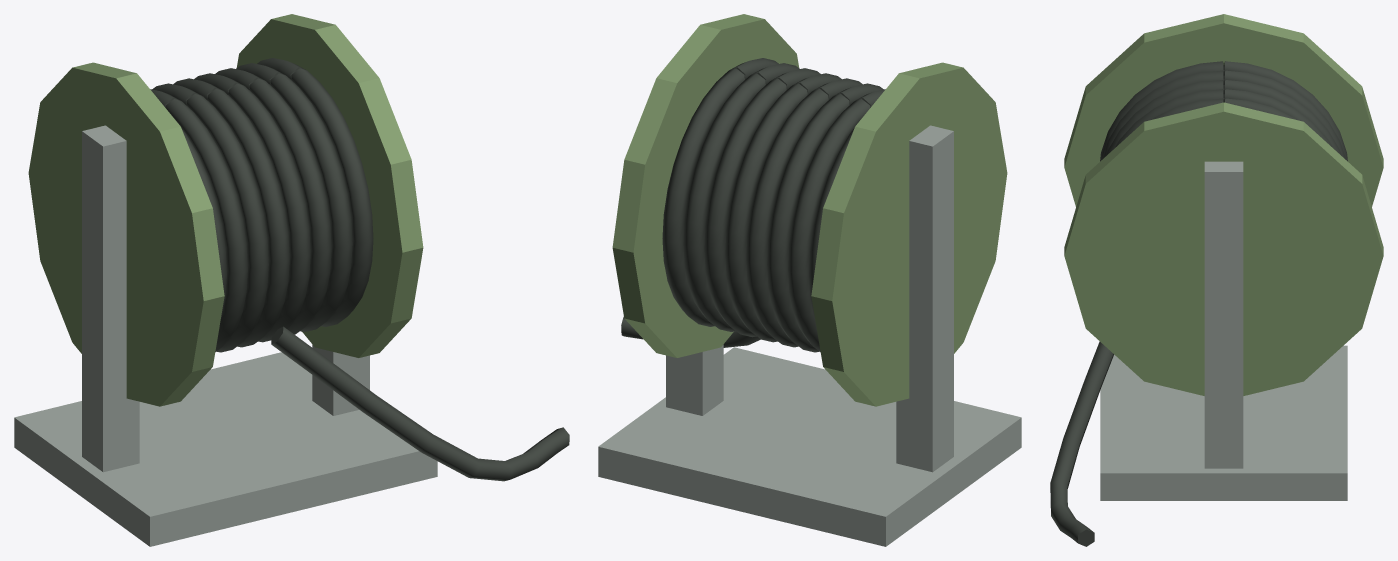
File: zoo-and-safari-park-builder-hose-reel-a38cd6fd__21511.glb
3 renders of one model, left to right at view 1: azimuth 30°, elevation 25°; view 2: azimuth 150°, elevation 25°; view 3: azimuth 270°, elevation 25°, orthographic. The views are drawn at different scales.
Parts seen in each view (by area): view 1: hose-reel; view 2: hose-reel; view 3: hose-reel.
Boxes of the visible parts, x1,y1,x2,y2 form: hose-reel: (14, 14, 569, 546); hose-reel: (598, 14, 1021, 546); hose-reel: (1050, 14, 1383, 546).
Bounding box in the file's own units: 0.7793 × 0.75 × 0.6054.
